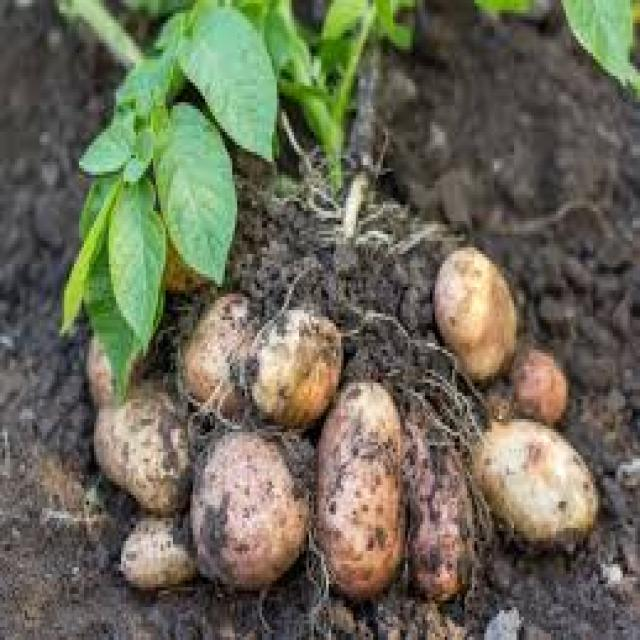Wet Waste: (446, 257, 598, 548), (190, 404, 316, 580), (320, 382, 414, 599)
